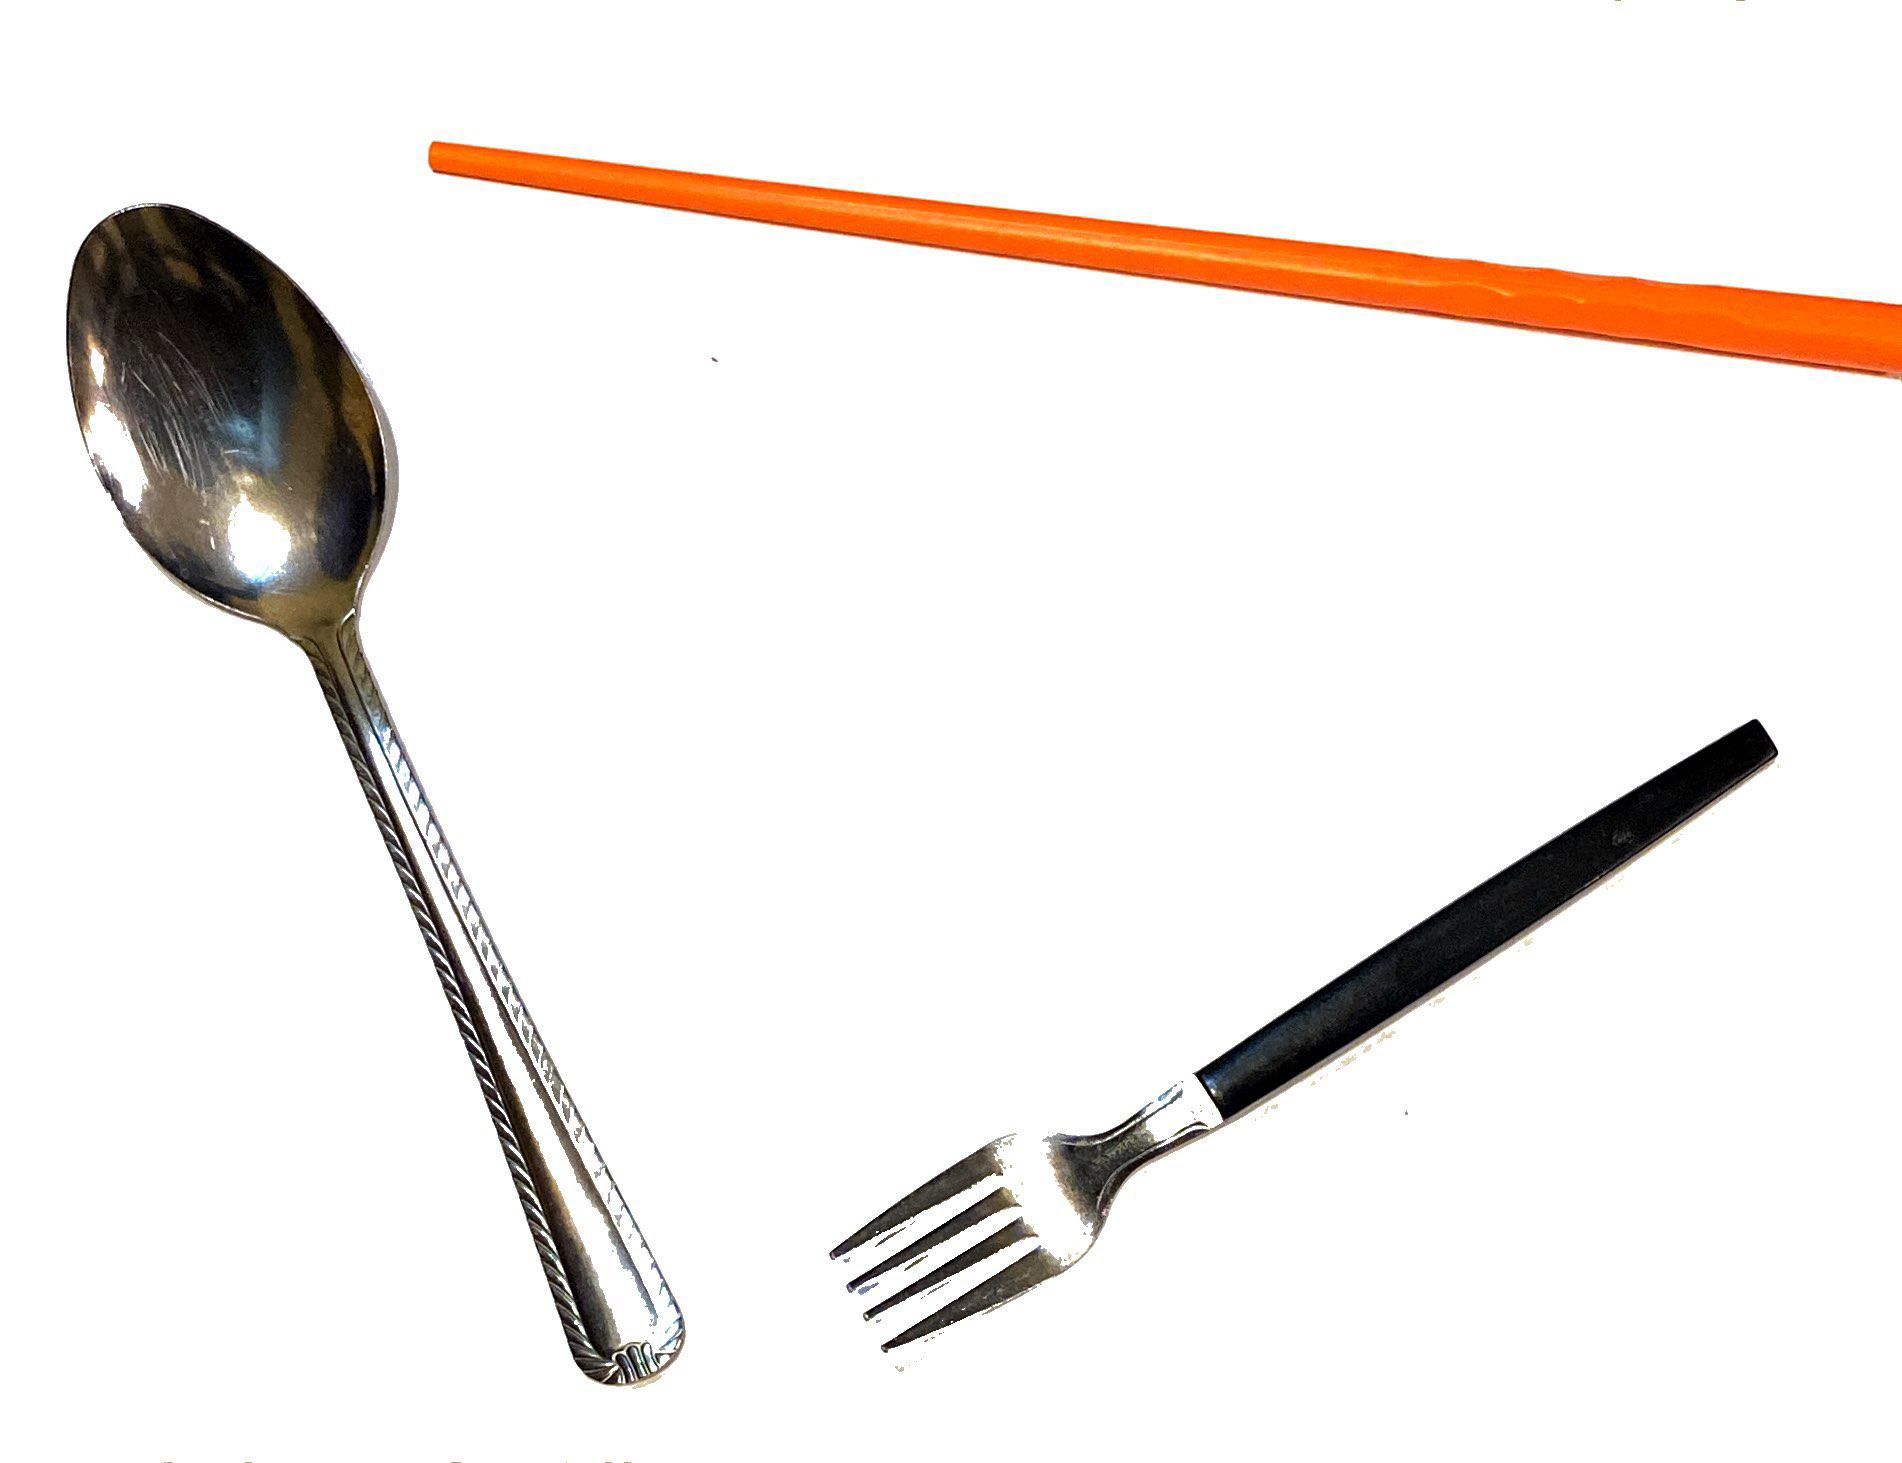Chopstick: (403, 109, 1902, 455)
Fork: (785, 681, 1808, 1389)
Spoon: (23, 181, 684, 1435)
